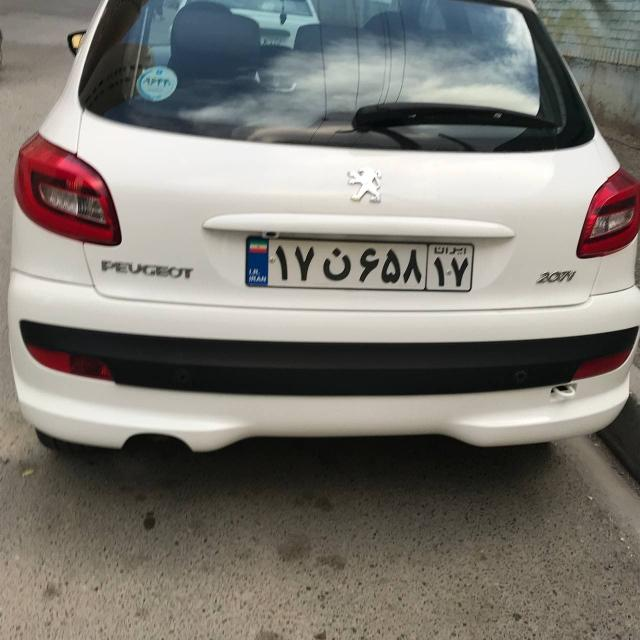Plates: (244, 236, 474, 295)
